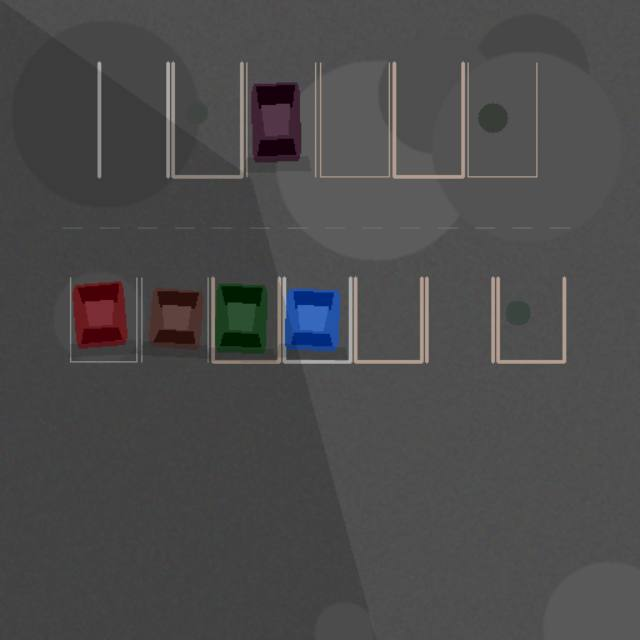space-empty: (99, 62, 168, 176), (172, 62, 241, 176), (320, 62, 389, 176), (394, 62, 462, 176), (468, 62, 536, 176), (355, 277, 421, 361), (426, 277, 492, 361), (498, 277, 564, 361)
space-occupied: (246, 62, 315, 176), (141, 277, 208, 361), (212, 277, 279, 361), (70, 277, 136, 361), (284, 277, 350, 361)
